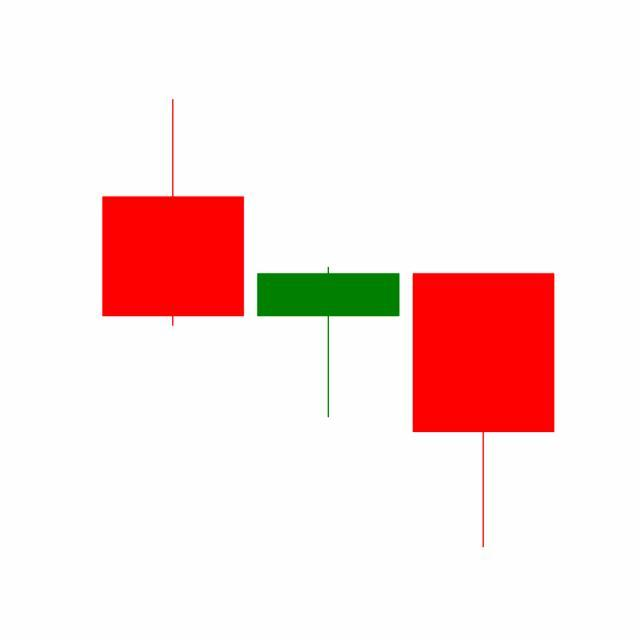Hammer: (250, 266, 407, 420)
